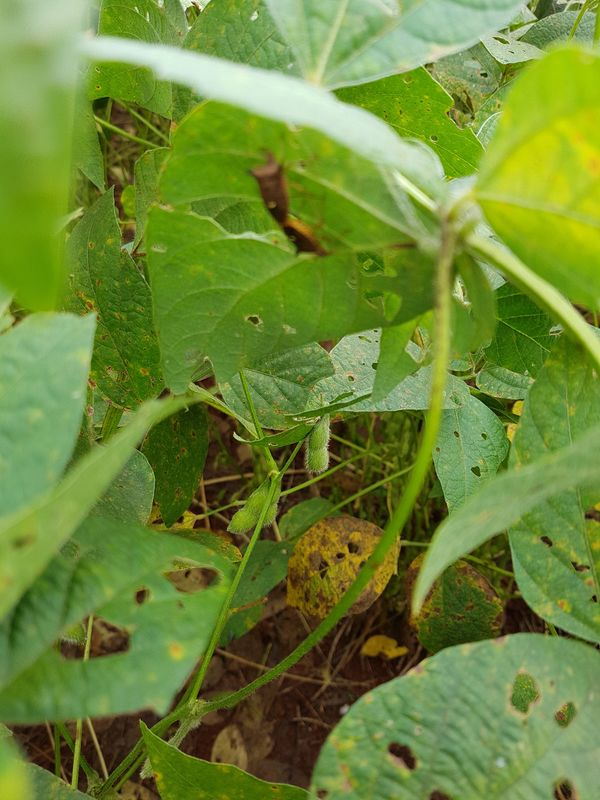Euschistus_heros_adulto: (237, 144, 305, 222), (273, 220, 334, 268)
